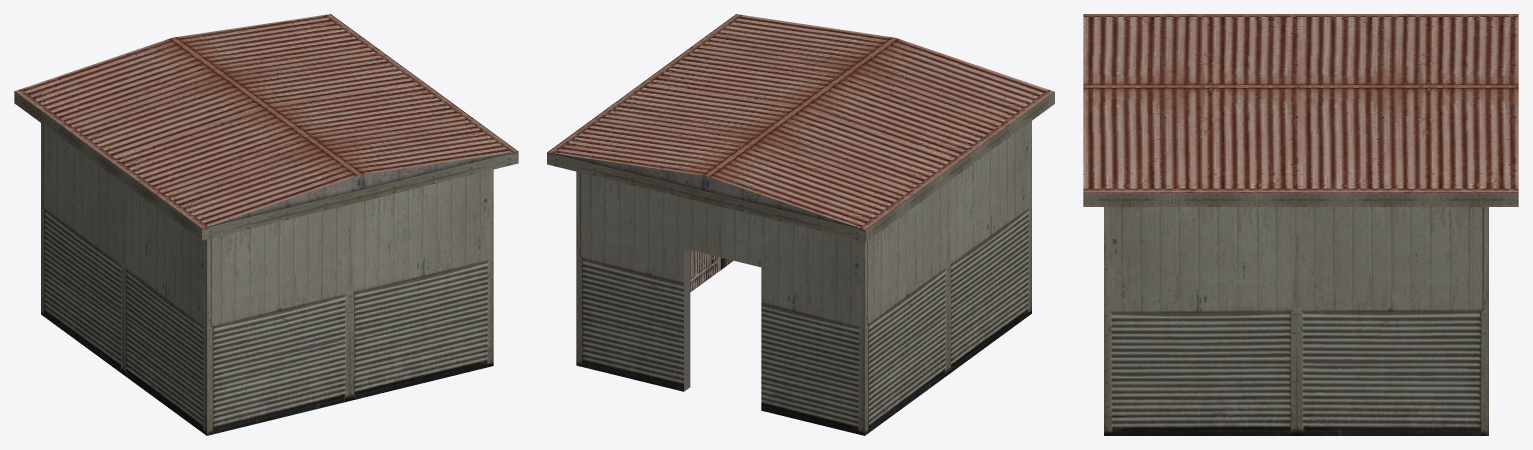
The model's file is OBLD02.glb.
The picture shows the model from 3 angles, left to right: view 1: azimuth 30°, elevation 25°; view 2: azimuth 150°, elevation 25°; view 3: azimuth 270°, elevation 25°; orthographic projection. The views are drawn at different scales.
Visible parts, largest first — view 1: _OBLD02; view 2: _OBLD02; view 3: _OBLD02.
Boxes of the visible parts, box(x1,y1,x2,y2) form: _OBLD02: box(14, 14, 518, 435); _OBLD02: box(547, 14, 1054, 435); _OBLD02: box(1083, 14, 1518, 435).
Size of the model in its own units: 5.52 by 3.87 by 5.67.
5 materials, 5 textured.
